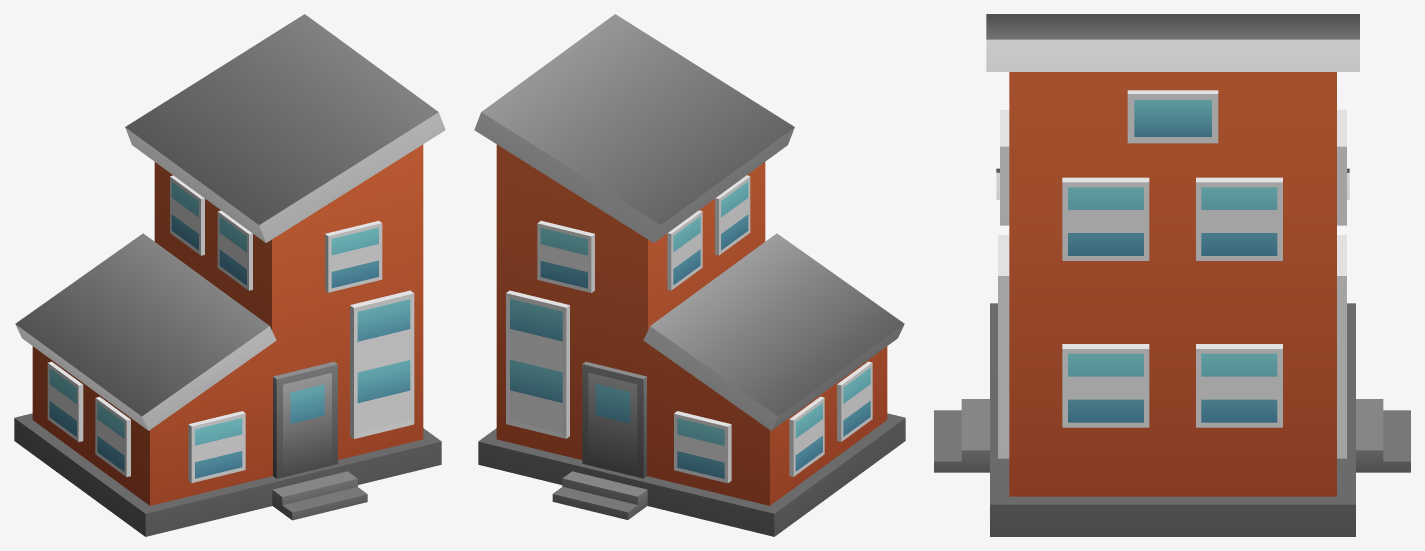
Rendered from сottage with flat roof new.fbx.
3 renders of one model, left to right at view 1: azimuth 30°, elevation 25°; view 2: azimuth 150°, elevation 25°; view 3: azimuth 270°, elevation 25°, orthographic. The views are drawn at different scales.
Parts seen in each view (by area): view 1: cottage_with_flat_roof; view 2: cottage_with_flat_roof; view 3: cottage_with_flat_roof.
Boxes of the visible parts, x1=… form: cottage_with_flat_roof: x1=14, y1=14, x2=445, y2=536; cottage_with_flat_roof: x1=474, y1=14, x2=905, y2=536; cottage_with_flat_roof: x1=934, y1=14, x2=1410, y2=536.
Bounding box in the file's own units: 637 × 719 × 628.
1 material, 1 textured.
